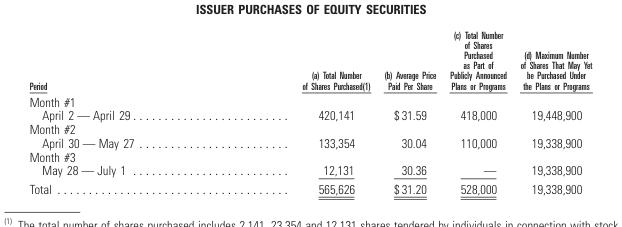table: (28, 28, 591, 195)
table column: (28, 28, 294, 195), (294, 28, 376, 195), (512, 28, 591, 195), (442, 28, 512, 195), (376, 28, 442, 195)
table column header: (28, 28, 591, 92)
table row: (28, 28, 591, 92), (28, 149, 591, 179), (28, 92, 591, 121), (28, 121, 591, 149), (28, 179, 591, 195)
